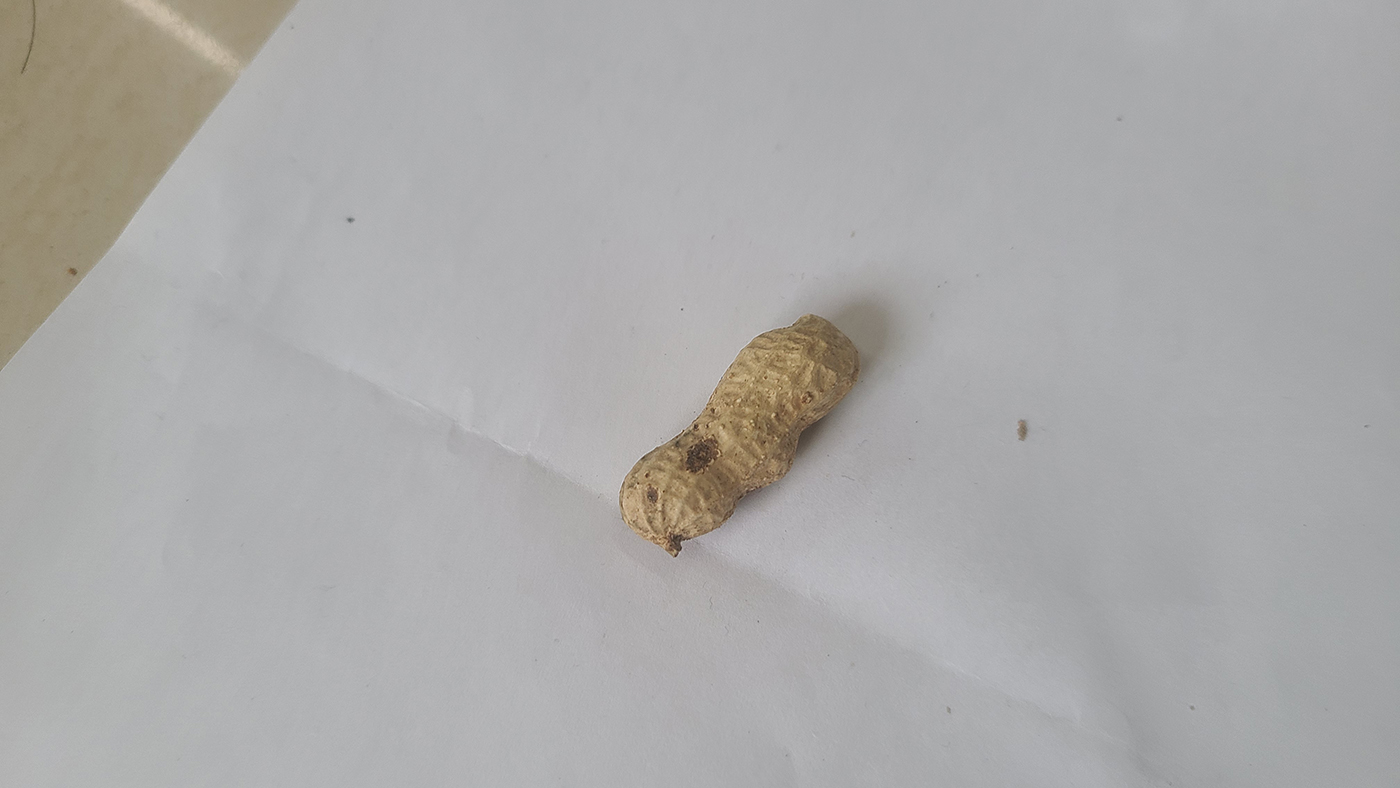h: (619, 314, 860, 548)
